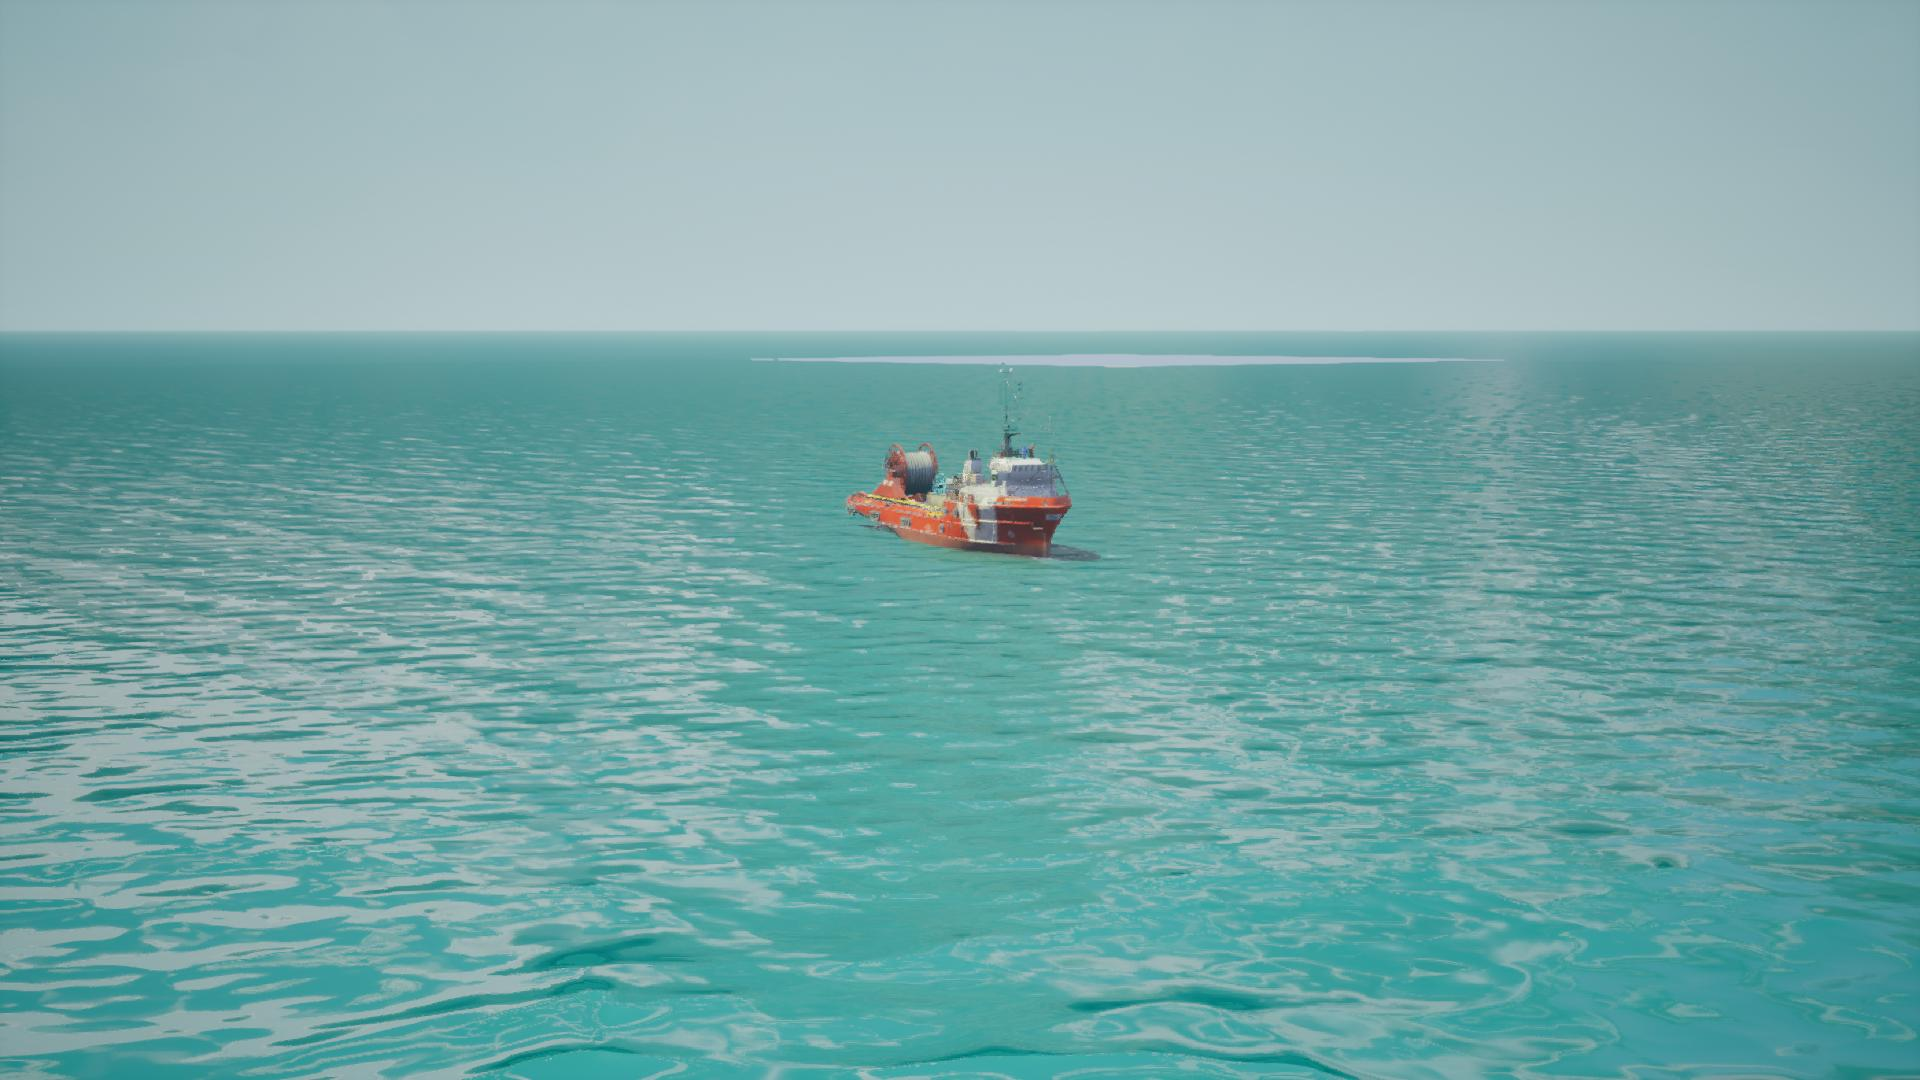Tug Boat: (852, 372, 1076, 563)
